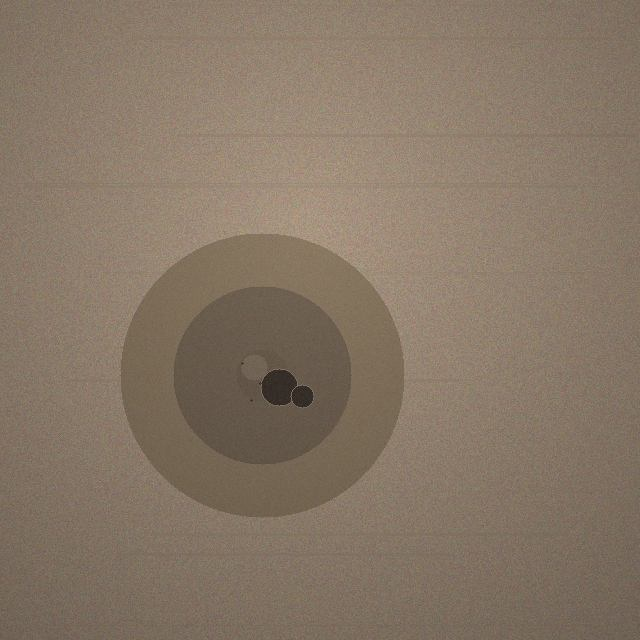shrinkage: (120, 233, 404, 517)
